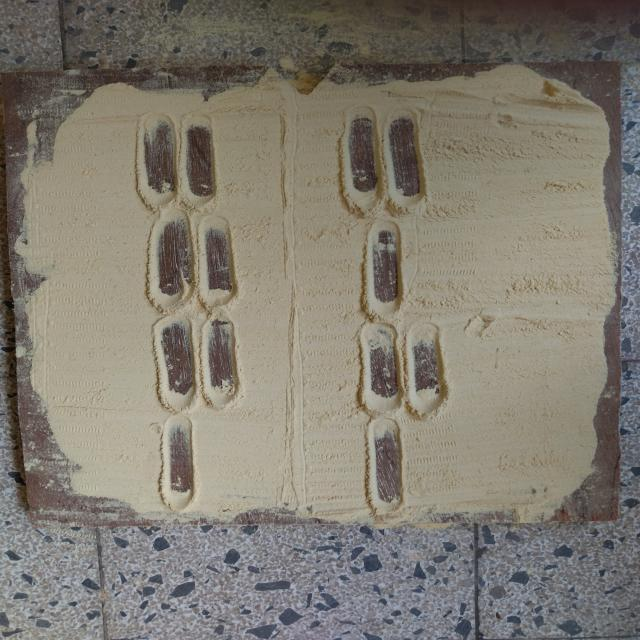double: (333, 99, 435, 218), (142, 207, 244, 313), (146, 312, 248, 413), (130, 104, 223, 213), (352, 320, 453, 419)
single: (356, 214, 411, 322), (152, 409, 202, 516), (358, 418, 410, 518)
